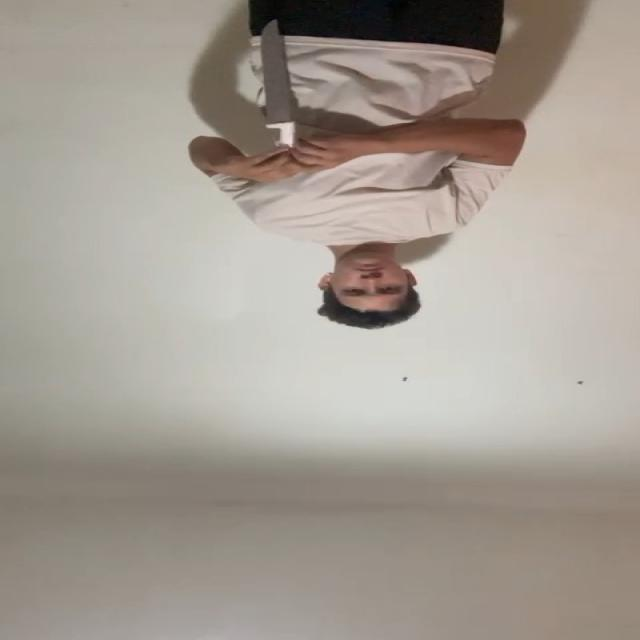knife: (255, 21, 295, 124)
